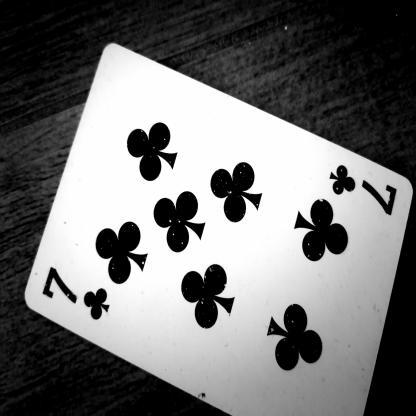7C: (45, 248, 120, 341), (324, 158, 410, 219)
